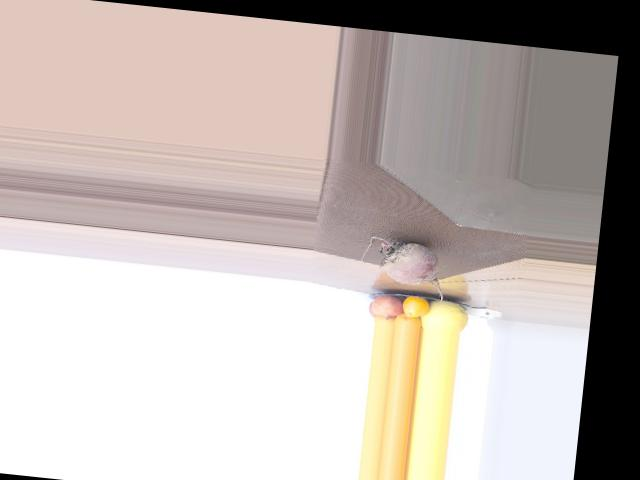beet: (357, 235, 449, 307)
